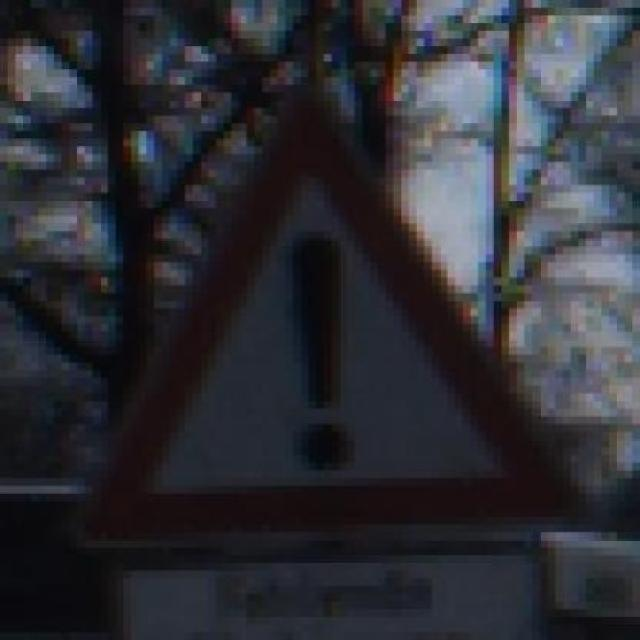Attention Please-: (69, 89, 593, 545)
